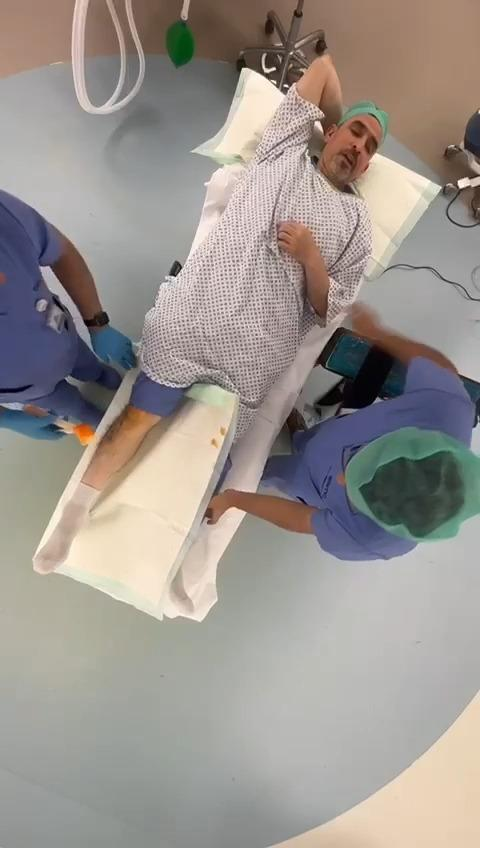patient: (36, 56, 386, 572)
prepstick: (55, 419, 94, 446)
